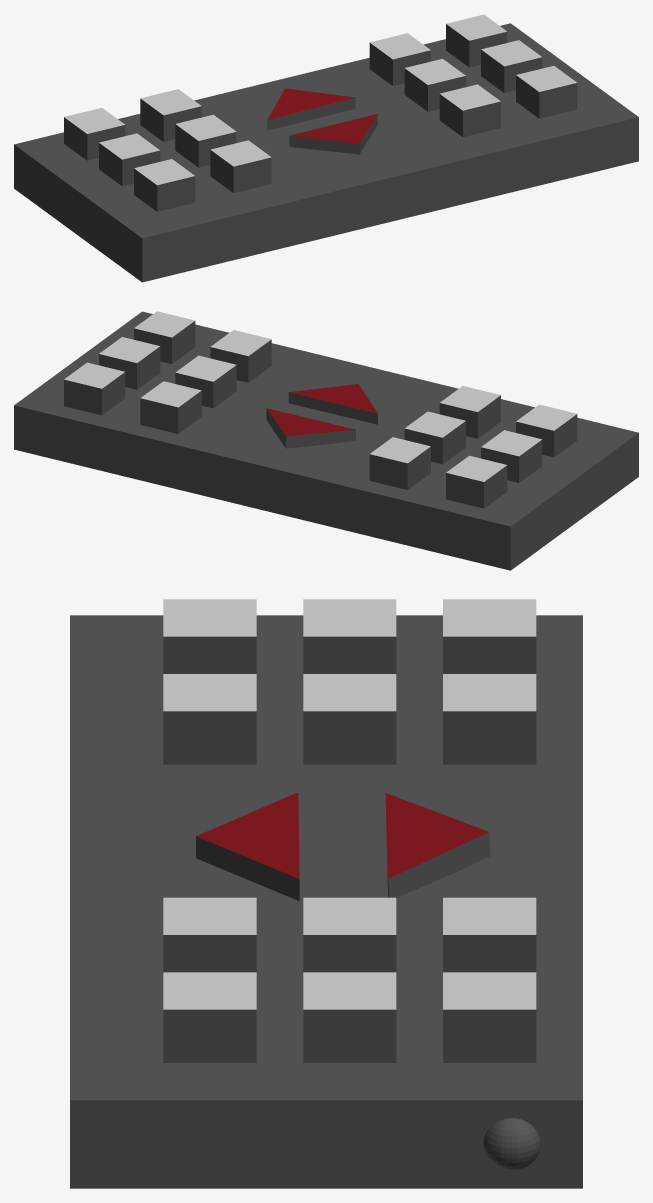
Rendered from RemoteCoontrolblend.fbx.
3 renders of one model, top to bottom at view 1: azimuth 30°, elevation 25°; view 2: azimuth 150°, elevation 25°; view 3: azimuth 270°, elevation 25°, orthographic. The views are drawn at different scales.
Parts seen in each view (by area): view 1: Cube.001; view 2: Cube.001; view 3: Cube.001.
Boxes of the visible parts, <box> form: Cube.001: <box>14,14,638,282</box>; Cube.001: <box>14,311,638,570</box>; Cube.001: <box>70,599,582,1188</box>.
Bounding box in the file's own units: 456 × 60.88 × 200.
